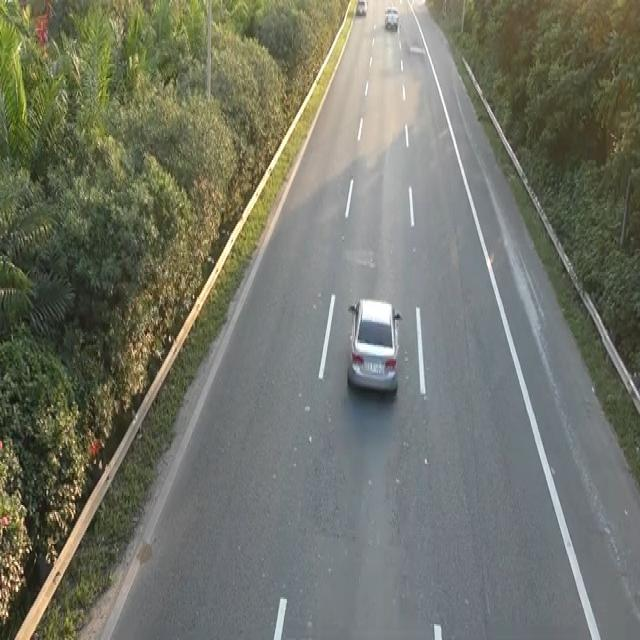bus: (344, 292, 403, 396)
car: (383, 6, 399, 30)
